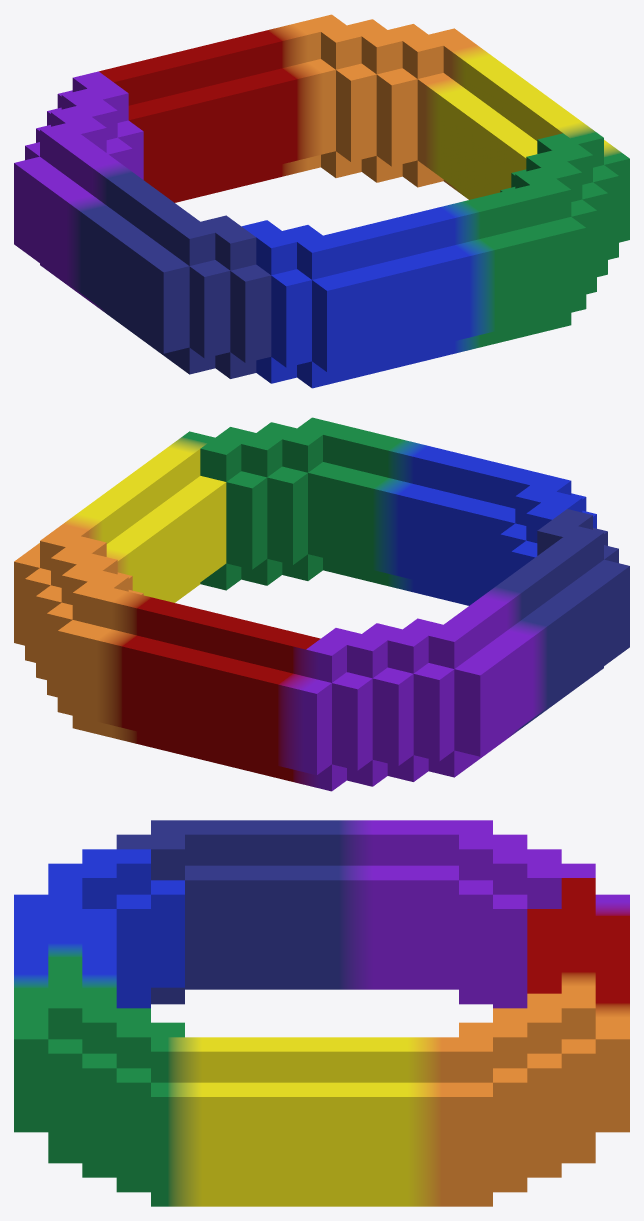
Rendered from rainbow_donut.dae.
3 renders of one model, top to bottom at view 1: azimuth 30°, elevation 25°; view 2: azimuth 150°, elevation 25°; view 3: azimuth 270°, elevation 25°, orthographic. The views are drawn at different scales.
Visible parts, largest first — view 1: Rainbow; view 2: Rainbow; view 3: Rainbow.
Boxes of the visible parts, bbox=[...] form: Rainbow: bbox=[14, 14, 629, 388]; Rainbow: bbox=[14, 417, 629, 791]; Rainbow: bbox=[14, 820, 629, 1206].
Bounding box in the file's own units: 18 × 5 × 18.
